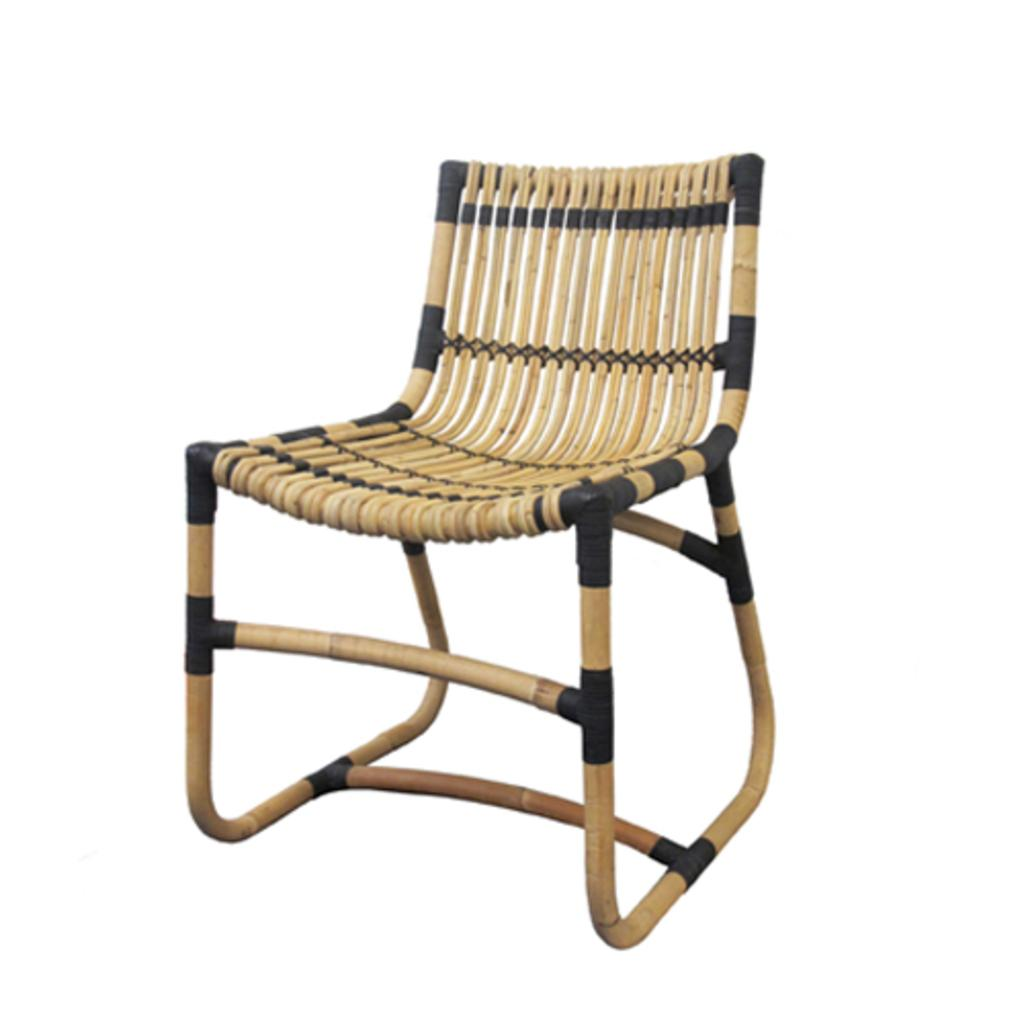Chair: (172, 150, 776, 956)
